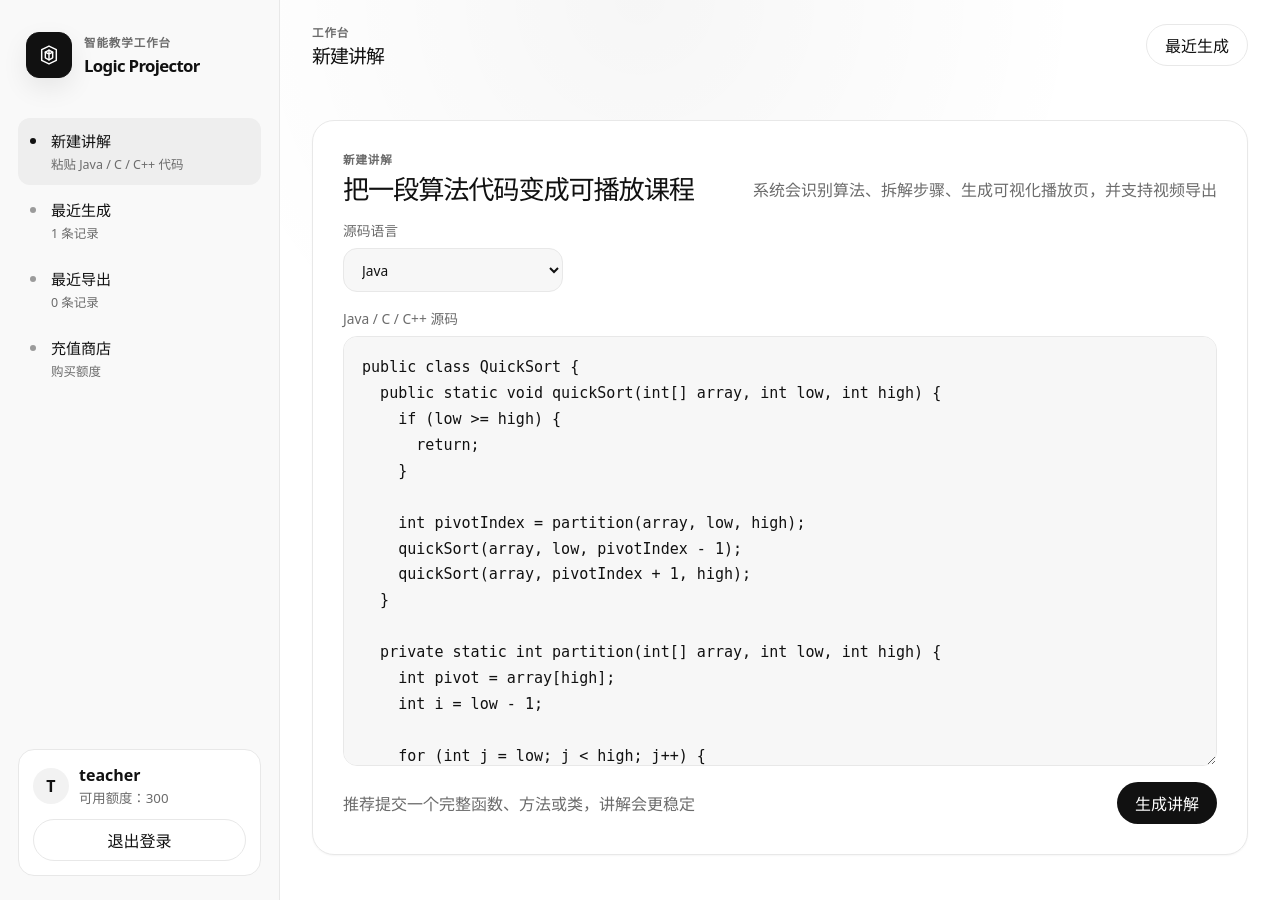
it: App › reopens a failed recent generation as a recoverable editor state
Click the button with class "sidebar-nav-item" showing "最近生成 1 条记录" at {"x": 140, "y": 220}, box [18,187,261,254]
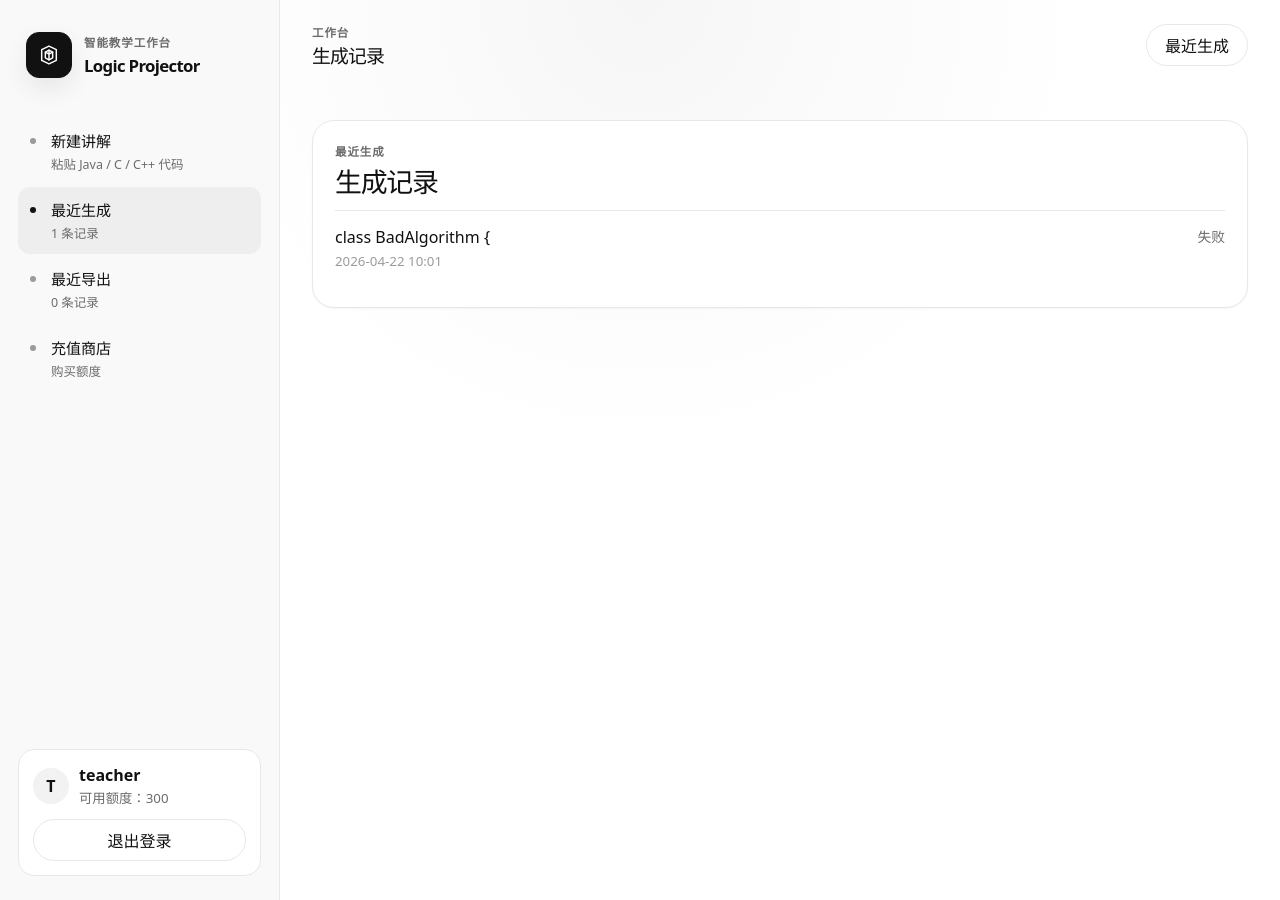
Click the button "class BadAlgorithm { 失败 2026-04-22 10:01" at {"x": 412, "y": 237}, box [335,210,1225,285]
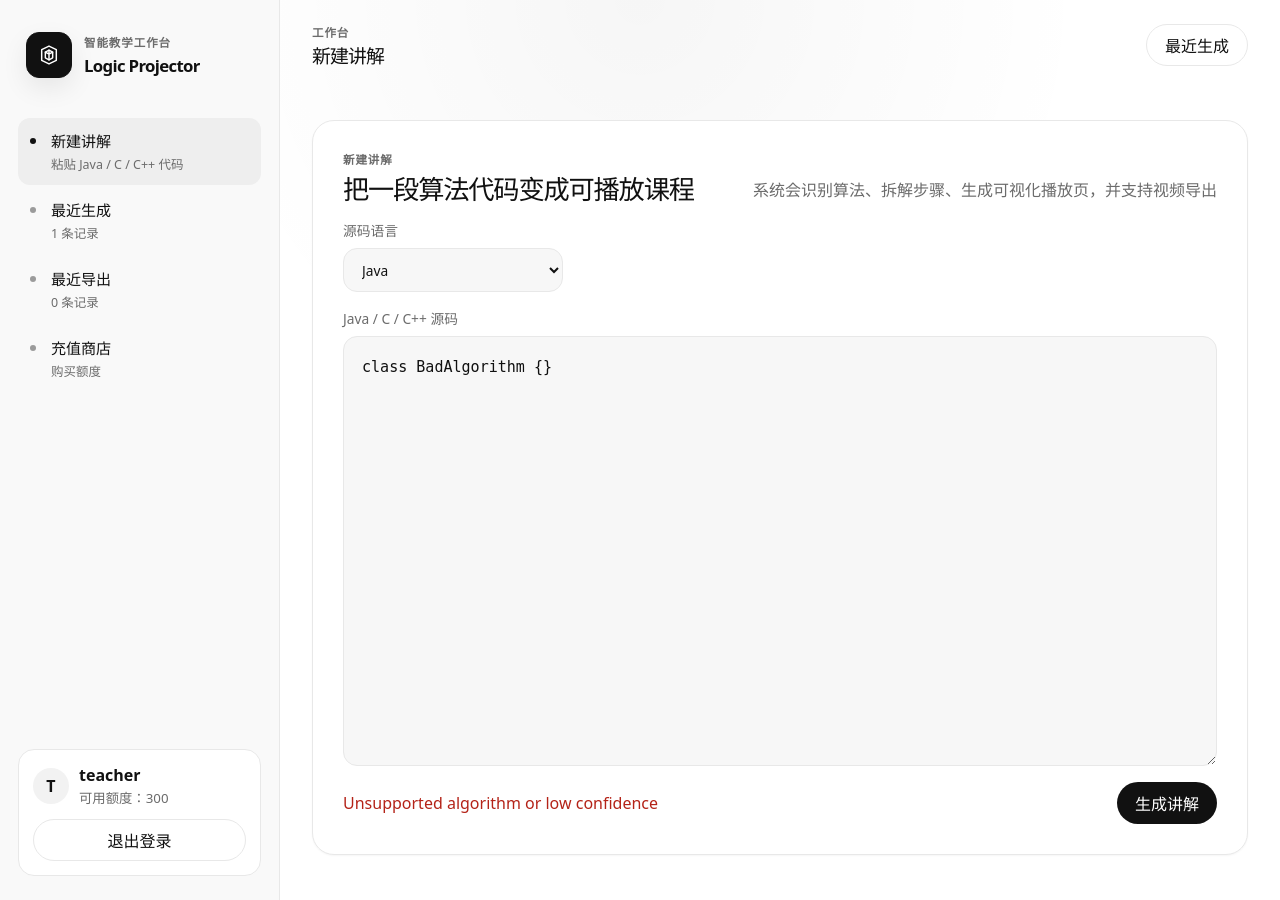
Expected: the text box labelled "Java / C / C++ 源码" is shown, [343,336,1217,766]
Expected: the text "Unsupported algorithm or low confidence" is shown, [343,792,658,814]
